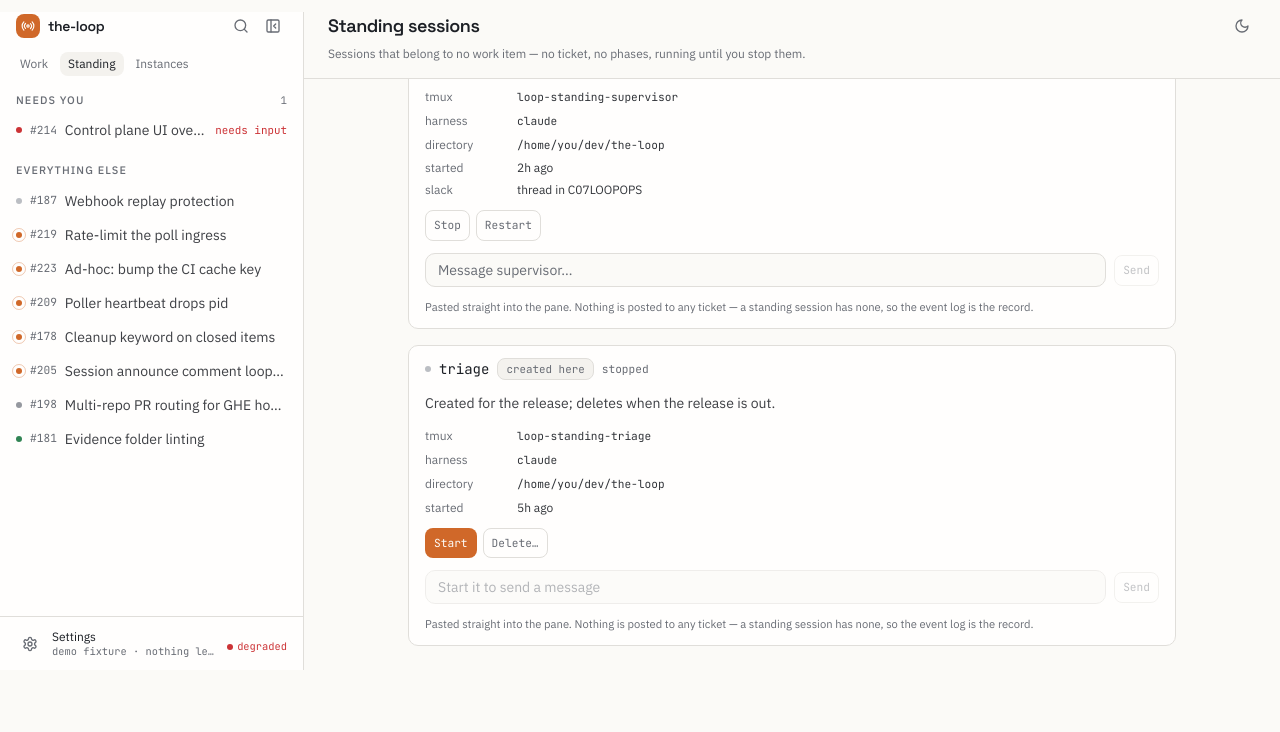
it: the Standing screen, on demo data › deletes a created session and it leaves the board
This screenshot has width=1280, height=732.
(page scrolled)
What coordinates should you click on to do the following:
click the button "Delete…"
I would click on:
 (515, 543)
Its box is 483,528 -> 548,558.
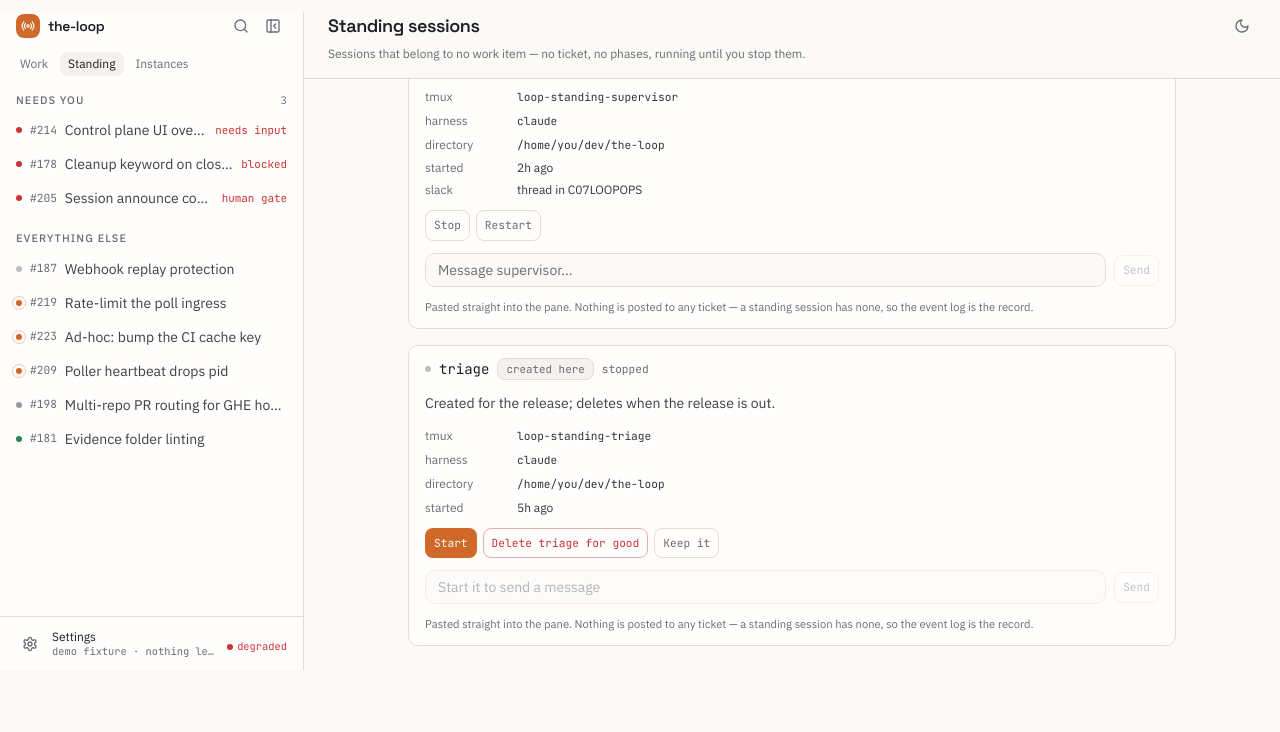
What coordinates should you click on to do the following:
click the button "Delete triage for good"
I would click on:
 (565, 543)
Its box is 483,528 -> 648,558.
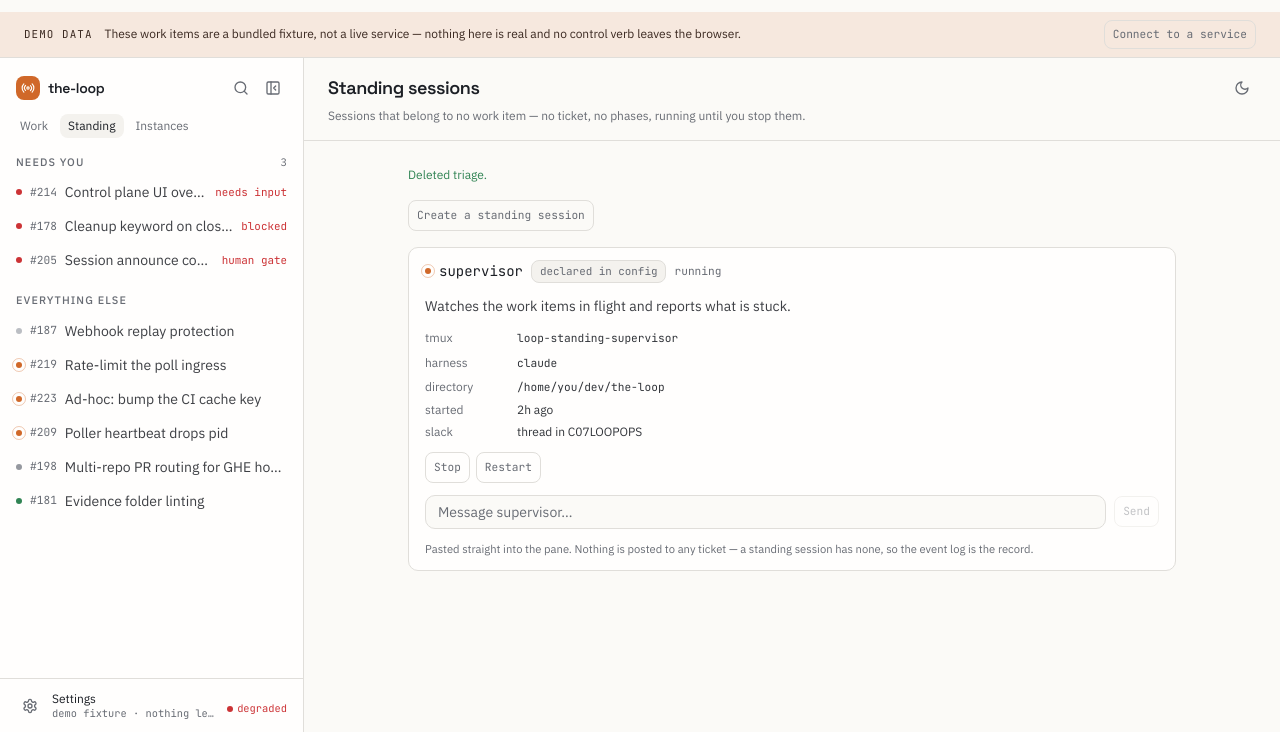
Now the heading "supervisor" is shown, box 439,261 -> 523,281
